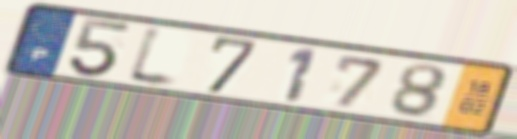1: (285, 47, 319, 105)
5: (65, 15, 135, 80)
7: (207, 34, 260, 95), (333, 53, 388, 108)
8: (386, 63, 451, 120)
L: (121, 22, 183, 94)
